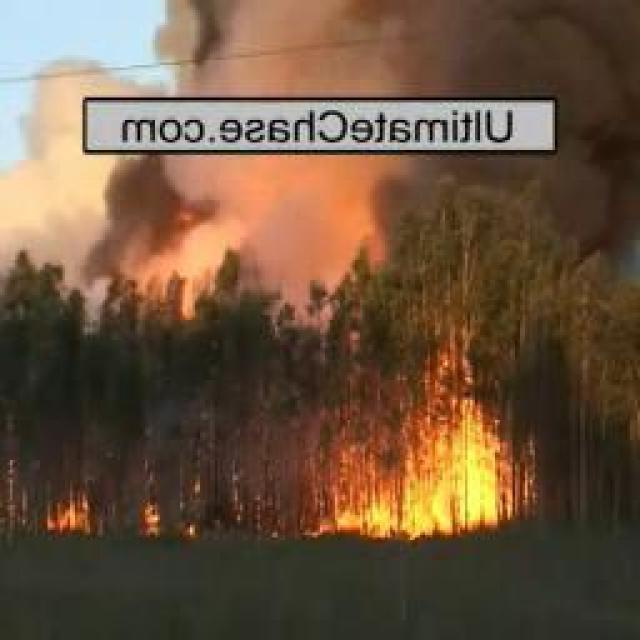Fire: (325, 379, 510, 537), (141, 479, 198, 541), (48, 495, 99, 533)
